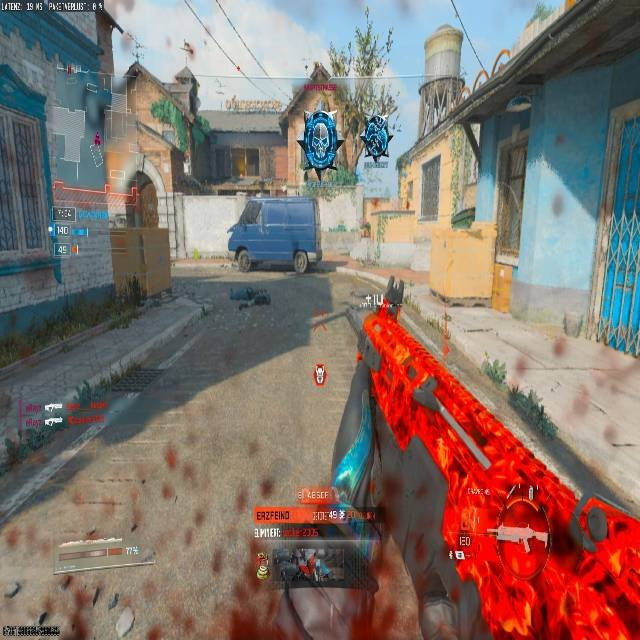player: (362, 113, 390, 164)
